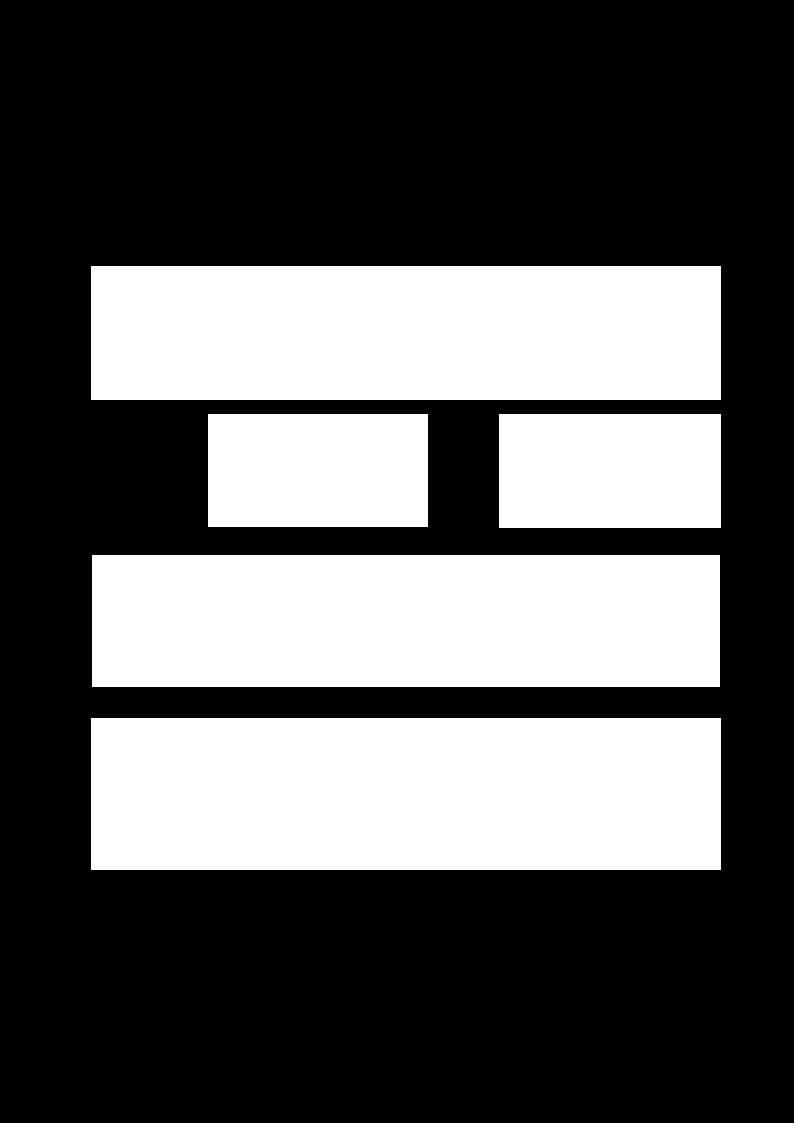table: (91, 718, 720, 869), (91, 266, 720, 399), (92, 555, 719, 686), (499, 414, 720, 527), (208, 414, 427, 526)
